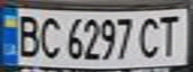2: (81, 15, 100, 61)
6: (63, 15, 84, 61)
7: (115, 15, 139, 61)
9: (97, 15, 118, 61)
B: (12, 11, 42, 58)
C: (136, 13, 166, 60), (36, 13, 63, 60)
T: (154, 11, 187, 57)
